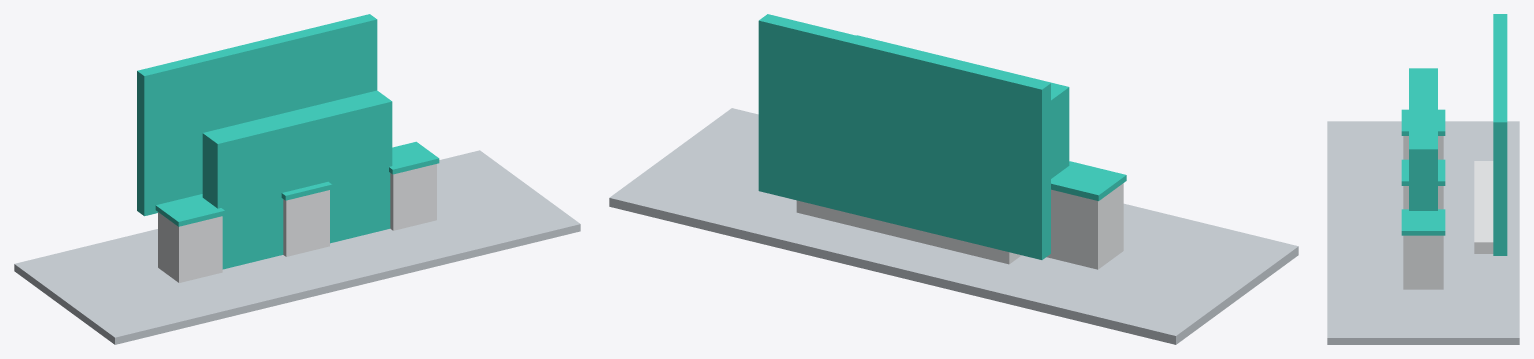
The picture shows the model from 3 angles, left to right: view 1: azimuth 30°, elevation 25°; view 2: azimuth 150°, elevation 25°; view 3: azimuth 270°, elevation 25°; orthographic projection. The views are drawn at different scales.
Visible parts, largest first — view 1: Exhibition Booth Concept; view 2: Exhibition Booth Concept; view 3: Exhibition Booth Concept.
Boxes of the visible parts, x1,y1,x2,y2 form: Exhibition Booth Concept: [14, 14, 580, 344]; Exhibition Booth Concept: [609, 14, 1298, 344]; Exhibition Booth Concept: [1327, 14, 1519, 344].
Bounding box in the file's own units: 8 × 2.9 × 3.
